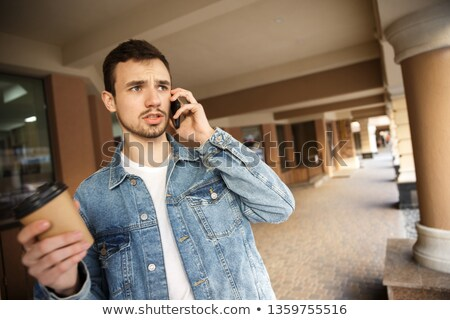phone: (165, 84, 194, 137)
talk: (124, 70, 210, 141)
